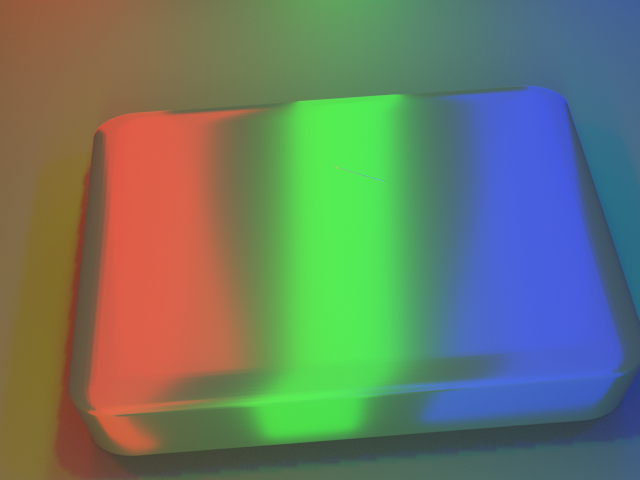scratch: (272, 118, 454, 217)
